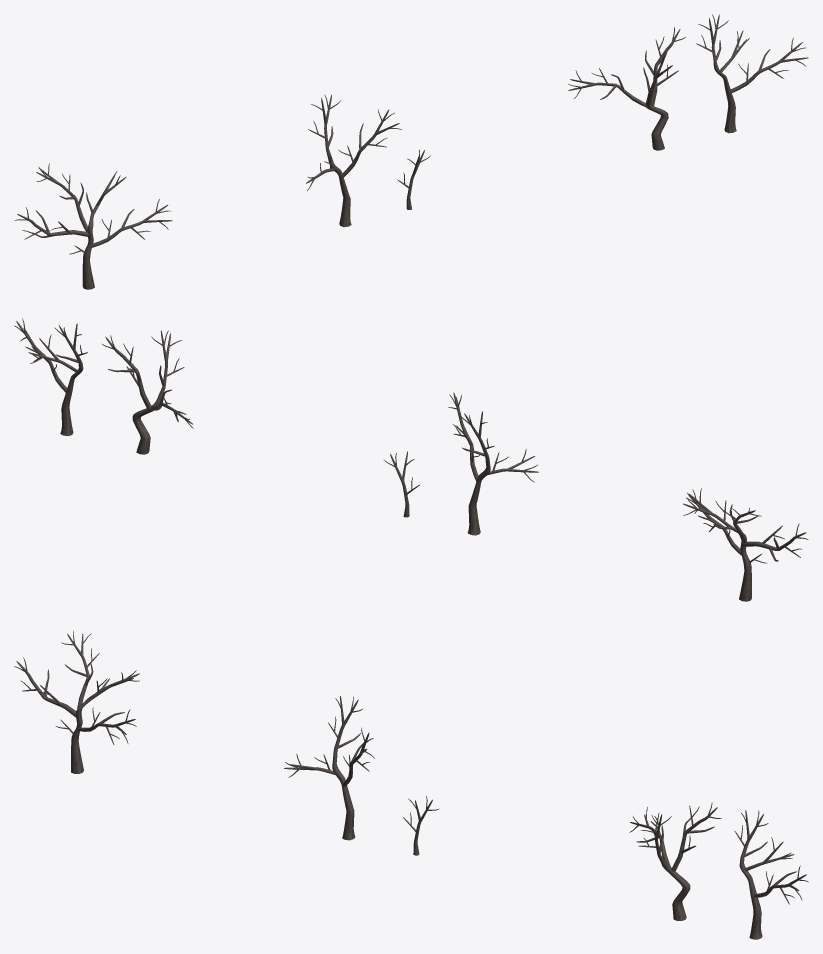
File: dead-tree3.glb
3 views of the same model, one above another, from view 1: azimuth 30°, elevation 25°; view 2: azimuth 150°, elevation 25°; view 3: azimuth 330°, elevation 25° (orthographic). The views are drawn at different scales.
Parts seen in each view (by area): view 1: DeadTree_8, DeadTree_7, DeadTree_6, DeadTree_10; view 2: DeadTree_8, DeadTree_7, DeadTree_10, DeadTree_6; view 3: DeadTree_8, DeadTree_7, DeadTree_10, DeadTree_6.
Part boxes in pixels (x1=…): DeadTree_8: x1=14, y1=163, x2=172, y2=289; DeadTree_7: x1=568, y1=27, x2=685, y2=150; DeadTree_6: x1=696, y1=14, x2=808, y2=133; DeadTree_10: x1=306, y1=94, x2=401, y2=227; DeadTree_8: x1=683, y1=488, x2=808, y2=601; DeadTree_7: x1=101, y1=330, x2=193, y2=454; DeadTree_10: x1=448, y1=392, x2=538, y2=535; DeadTree_6: x1=14, y1=318, x2=87, y2=436; DeadTree_8: x1=14, y1=630, x2=139, y2=773; DeadTree_7: x1=629, y1=802, x2=721, y2=920; DeadTree_10: x1=284, y1=696, x2=374, y2=840; DeadTree_6: x1=734, y1=810, x2=808, y2=939.
Size of the model in its own units: 46.05 by 7.13 by 5.03.
Materials: 1 (1 with a texture image).
